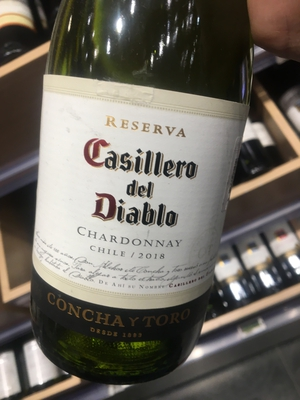casillero del diablo chardonnay: (25, 16, 254, 391)
